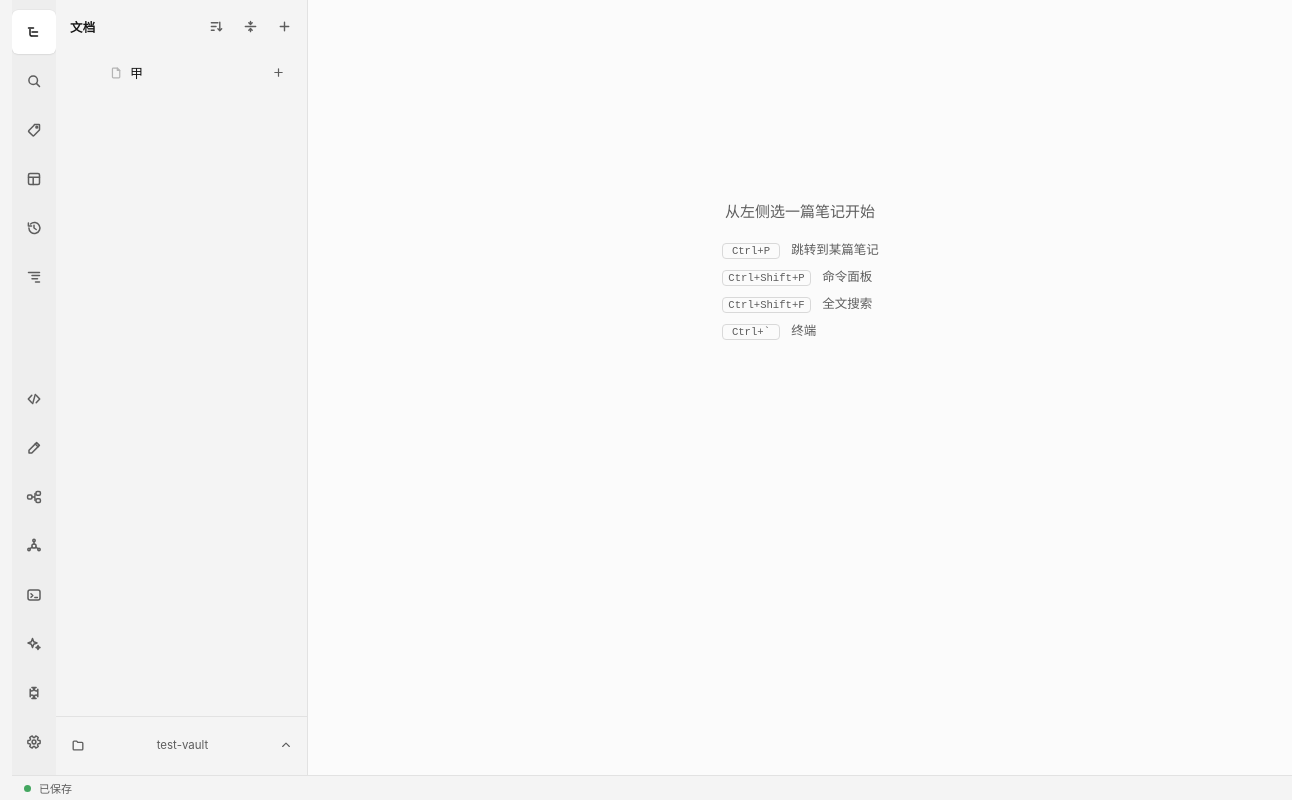
新建文档：不弹窗，就地改名 › 建出来就叫「未命名」，光标落在正文上方的标题上并且全选
Click the button named "新建文档".
click(284, 26)  # box [268,10,300,42]
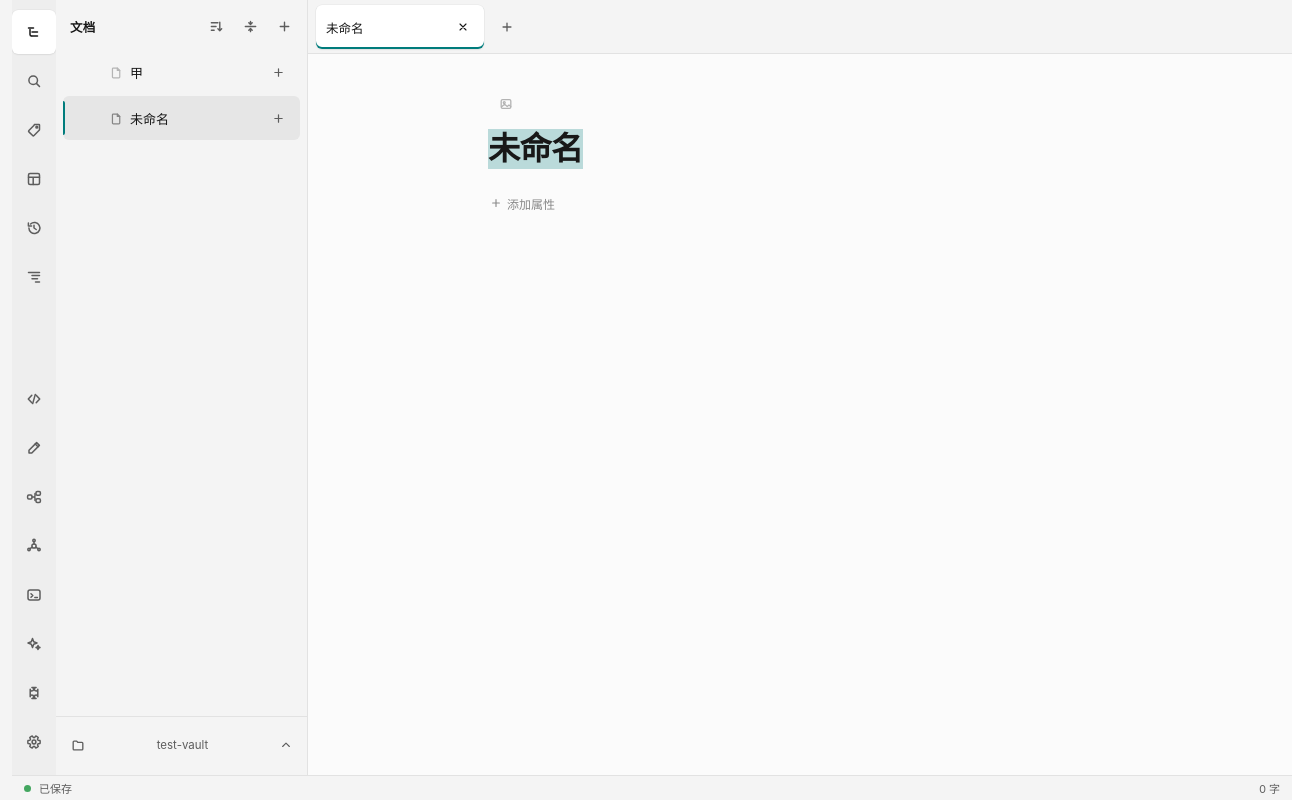
Check: the field with class "doc-title-input" holds "未命名", box [484,127,1112,171]
